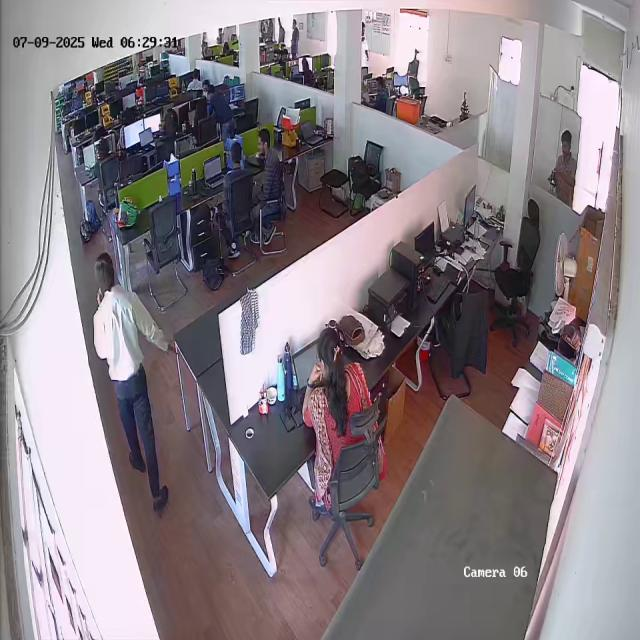person: (83, 252, 176, 512), (300, 329, 380, 482), (254, 129, 288, 201), (550, 130, 578, 203)
